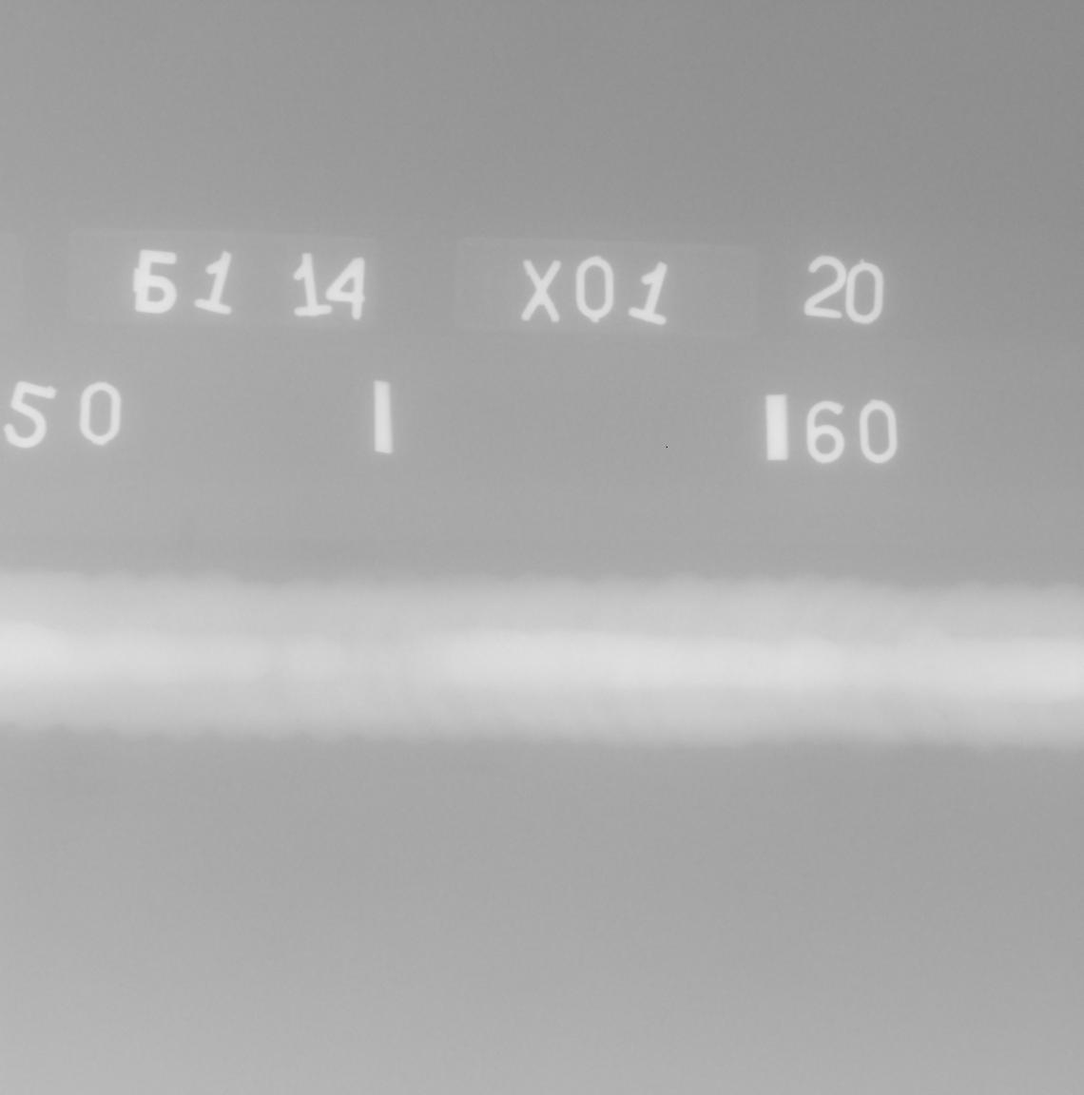Inclusion: (747, 660, 755, 669)
Lack of Fusion: (925, 668, 934, 670)
Pore/Porosity: (18, 691, 24, 695), (797, 709, 803, 713), (848, 685, 853, 689), (961, 712, 966, 716), (943, 715, 946, 718)
